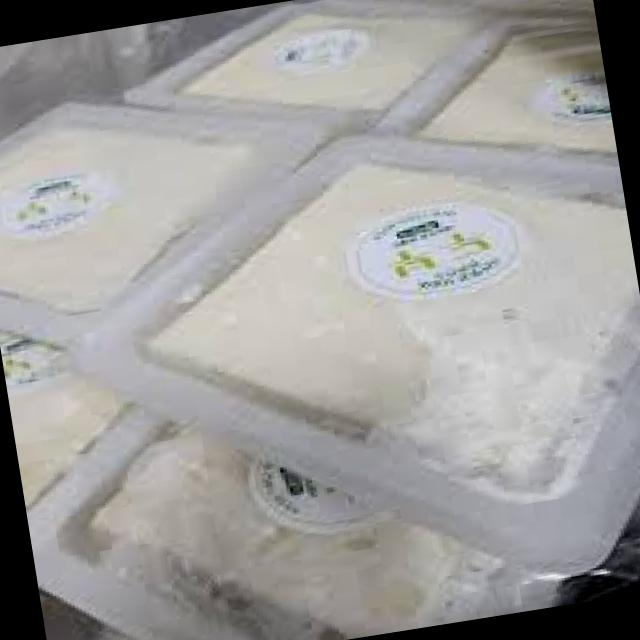tofu: (142, 122, 640, 570)
